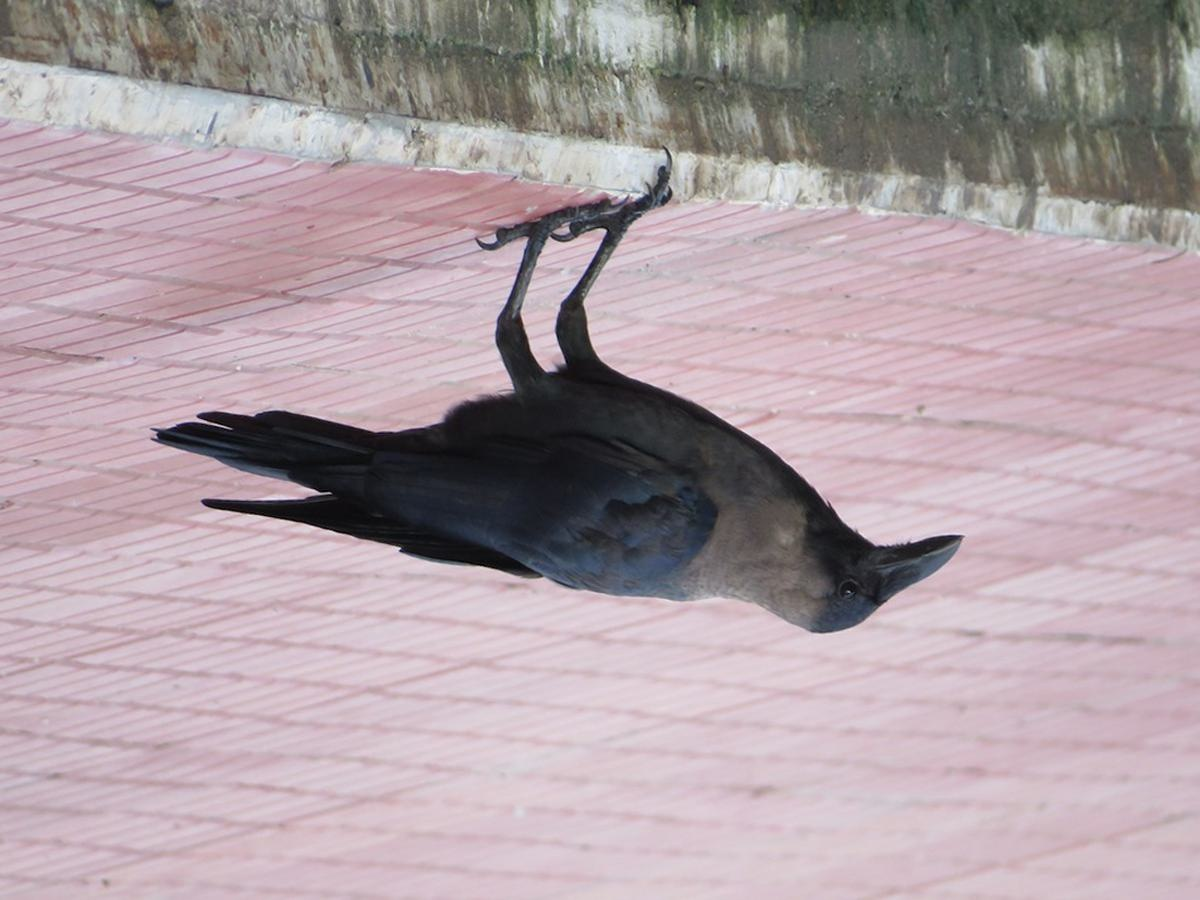crow: (151, 166, 978, 652)
